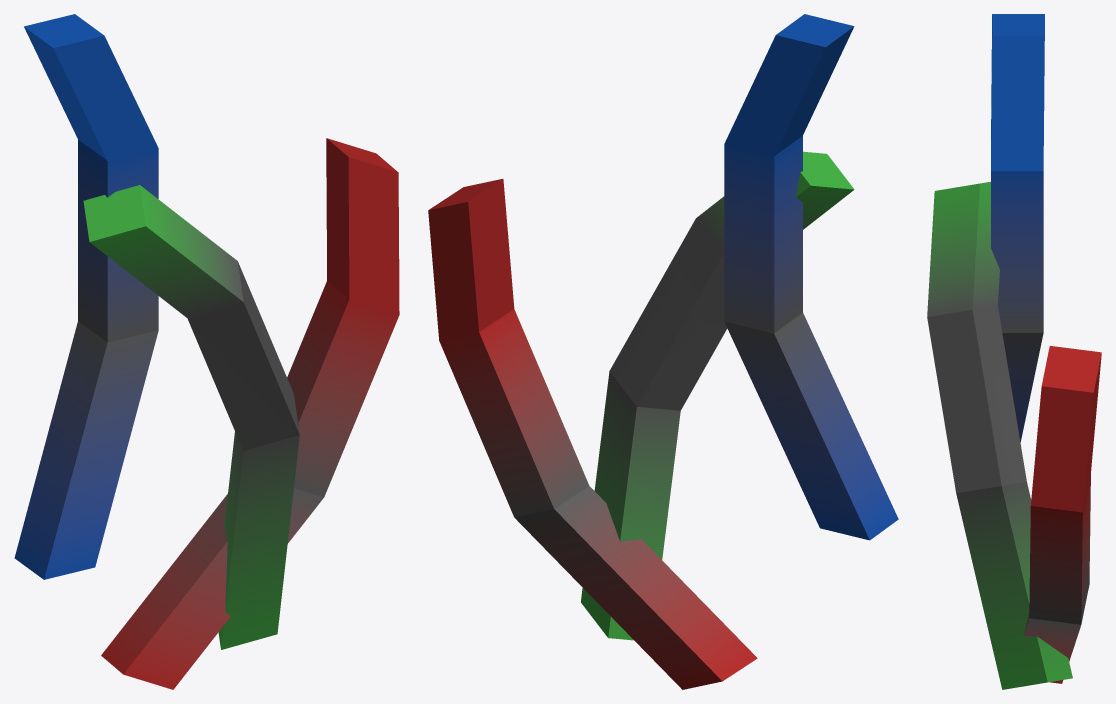
File: wire.glb
3 views of the same model, side by side, from view 1: azimuth 30°, elevation 25°; view 2: azimuth 150°, elevation 25°; view 3: azimuth 270°, elevation 25° (orthographic). The views are drawn at different scales.
Parts seen in each view (by area): view 1: 83 | ConduitWire | ItemInstance; view 2: 83 | ConduitWire | ItemInstance; view 3: 83 | ConduitWire | ItemInstance.
Boxes of the visible parts, x1,y1,x2,y2 form: 83 | ConduitWire | ItemInstance: (14,14,399,689); 83 | ConduitWire | ItemInstance: (428,14,898,689); 83 | ConduitWire | ItemInstance: (927,14,1101,689).
Bounding box in the file's own units: 0.3191 × 0.5128 × 0.133.
